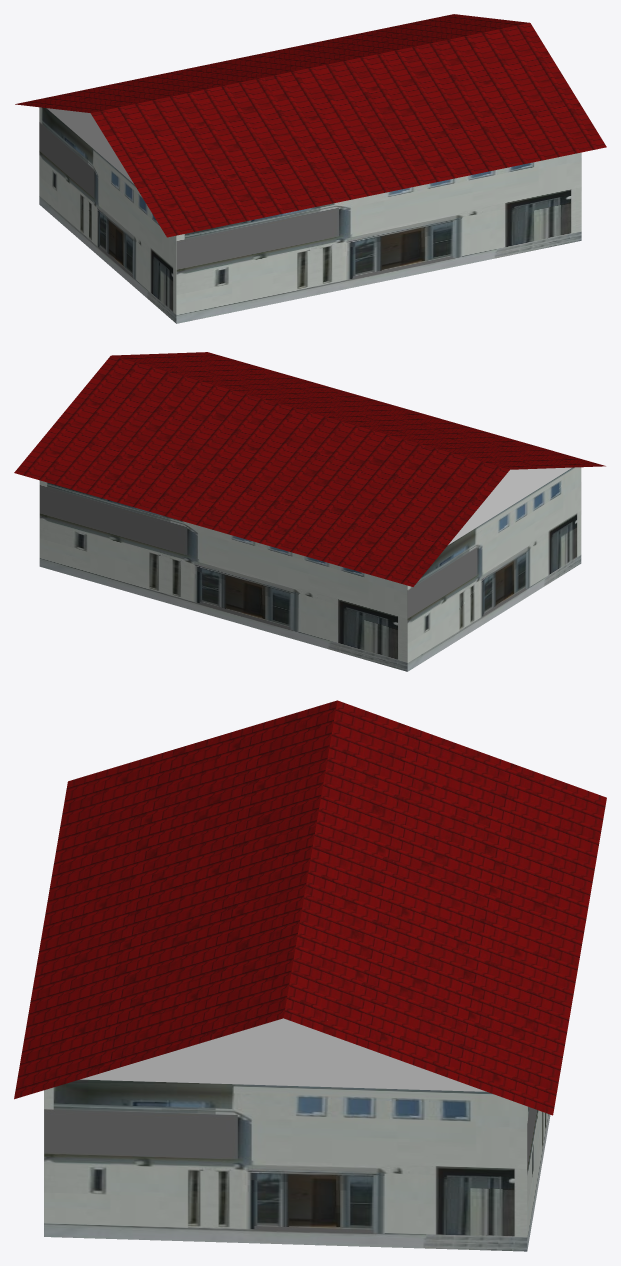
3 views of the same model, one above another, from view 1: azimuth 30°, elevation 25°; view 2: azimuth 150°, elevation 25°; view 3: azimuth 270°, elevation 25° (orthographic). The views are drawn at different scales.
Parts seen in each view (by area): view 1: CityEngineMaterial_17_m, CityEngineMaterial_11_m, CityEngineMaterial_3_m; view 2: CityEngineMaterial_17_m, CityEngineMaterial_11_m, CityEngineMaterial_3_m; view 3: CityEngineMaterial_17_m, CityEngineMaterial_11_m, CityEngineMaterial_3_m.
Part boxes in pixels (<box>): CityEngineMaterial_17_m: <box>15,14,606,237</box>; CityEngineMaterial_11_m: <box>39,107,581,323</box>; CityEngineMaterial_3_m: <box>47,108,133,183</box>; CityEngineMaterial_17_m: <box>14,352,605,586</box>; CityEngineMaterial_11_m: <box>39,467,581,671</box>; CityEngineMaterial_3_m: <box>448,467,571,544</box>; CityEngineMaterial_17_m: <box>14,700,606,1115</box>; CityEngineMaterial_11_m: <box>44,1079,550,1251</box>; CityEngineMaterial_3_m: <box>80,1018,486,1091</box>.
Size of the model in its own units: 26.61 by 8.85 by 19.95.
